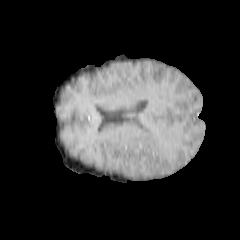glioma: (126, 126, 164, 158)
